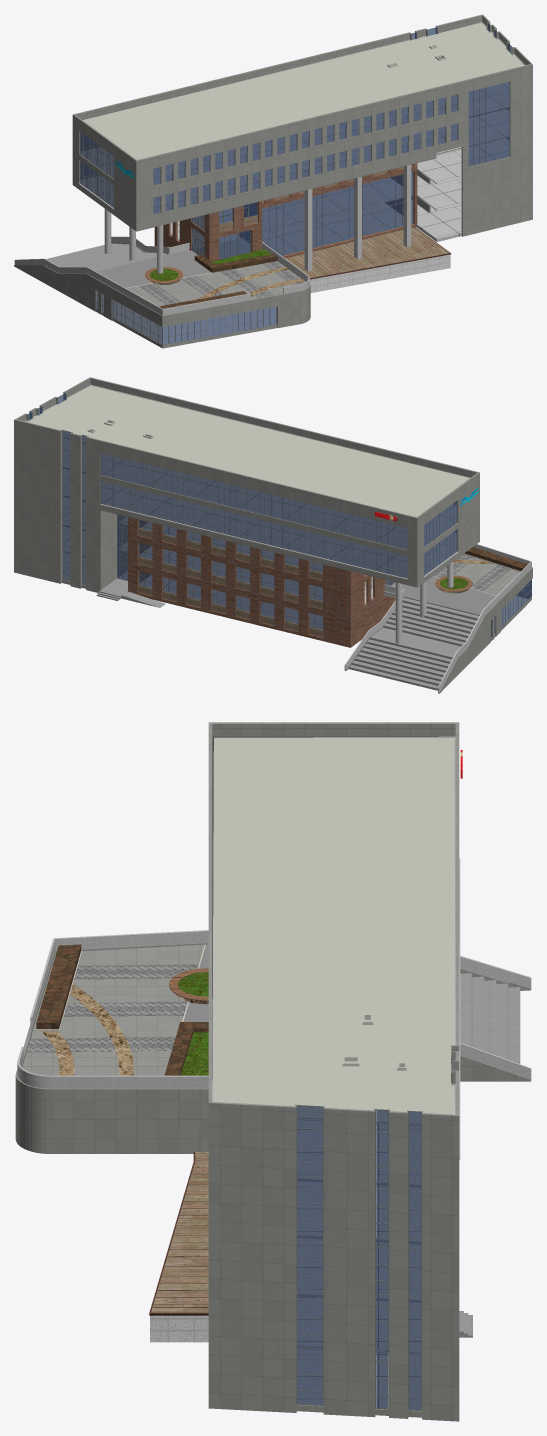
3 views of the same model, one above another, from view 1: azimuth 30°, elevation 25°; view 2: azimuth 150°, elevation 25°; view 3: azimuth 270°, elevation 25° (orthographic). The views are drawn at different scales.
Visible parts, largest first — view 1: zuo1, zuoding, zuo5, zuo4, zuo2, zuo3; view 2: zuo1, zuoding, zuo5, zuo4, zuo2, zuo3; view 3: zuoding, zuo1, zuo5, zuo4, zuo3, zuo2.
Part boxes in pixels (x1=…): zuo1: x1=14, y1=164, x2=532, y2=348; zuoding: x1=82, y1=22, x2=525, y2=159; zuo5: x1=72, y1=14, x2=532, y2=197; zuo4: x1=72, y1=101, x2=532, y2=226; zuo2: x1=163, y1=138, x2=532, y2=261; zuo3: x1=72, y1=130, x2=532, y2=238; zuo1: x1=14, y1=541, x2=532, y2=693; zuoding: x1=25, y1=384, x2=470, y2=516; zuo5: x1=14, y1=377, x2=479, y2=553; zuo4: x1=14, y1=456, x2=479, y2=582; zuo2: x1=14, y1=513, x2=395, y2=616; zuo3: x1=14, y1=484, x2=479, y2=590; zuoding: x1=212, y1=736, x2=455, y2=1126; zuo1: x1=15, y1=930, x2=531, y2=1421; zuo5: x1=208, y1=722, x2=462, y2=1187; zuo4: x1=208, y1=858, x2=460, y2=1245; zuo3: x1=208, y1=1232, x2=459, y2=1302; zuo2: x1=208, y1=1289, x2=459, y2=1359.
Bounding box in the file's own units: 173 × 62.1 × 87.22.
Materials: 24 (19 with a texture image).
